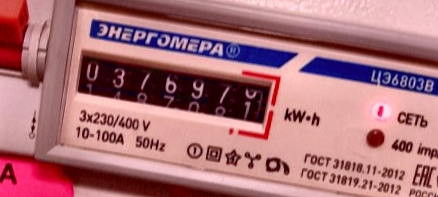0: (81, 58, 99, 82)
1: (238, 97, 250, 121)
3: (109, 65, 125, 88)
6: (160, 69, 179, 94)
7: (134, 66, 152, 91), (213, 78, 231, 103)
9: (187, 75, 204, 99)
screen: (60, 38, 283, 143)
